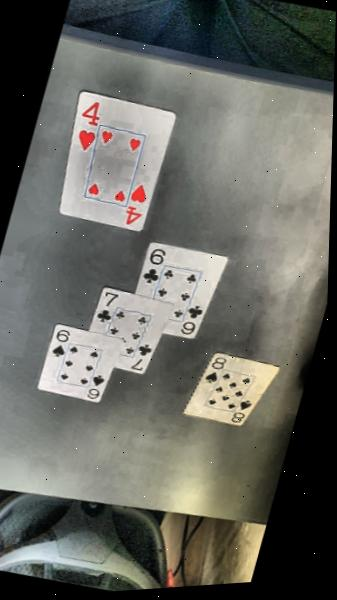4C: (70, 97, 103, 153), (121, 179, 149, 227)
6P: (48, 325, 71, 359), (83, 371, 105, 400)
6T: (140, 244, 165, 286), (177, 301, 203, 337)
7T: (94, 289, 119, 324), (128, 340, 152, 371)
8P: (202, 352, 227, 386), (228, 394, 253, 424)
